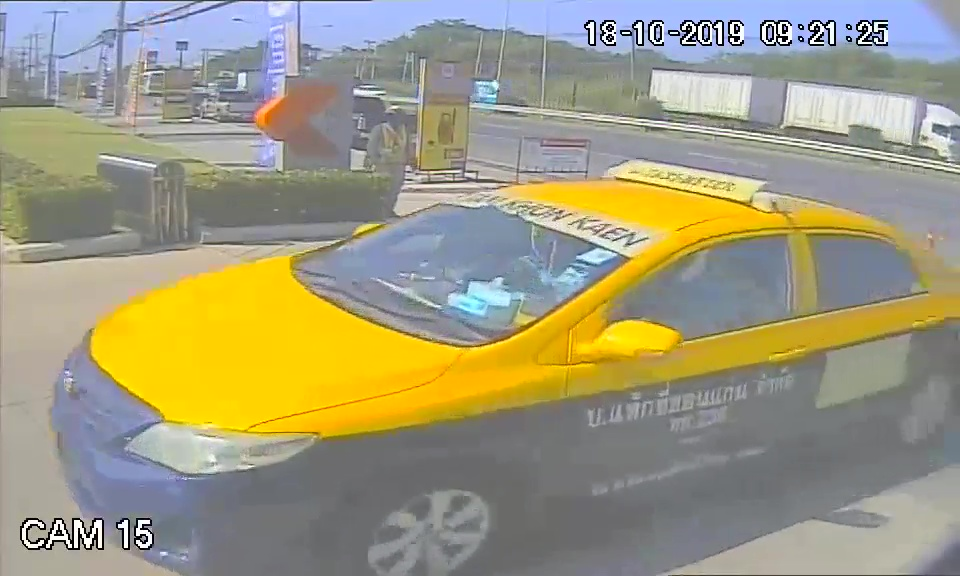sedan: (40, 174, 878, 565)
